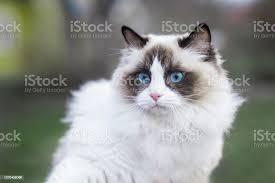ragdoll: (110, 14, 222, 127)
